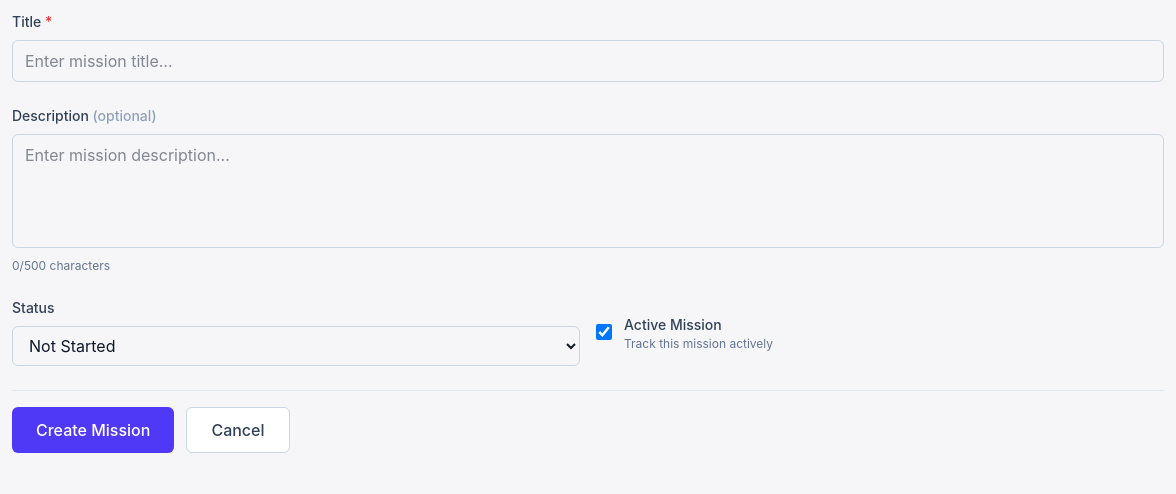
MissionForm › validates required title field
Step 1. Click the button "Create Mission" → (93, 430), box [12, 407, 174, 453]
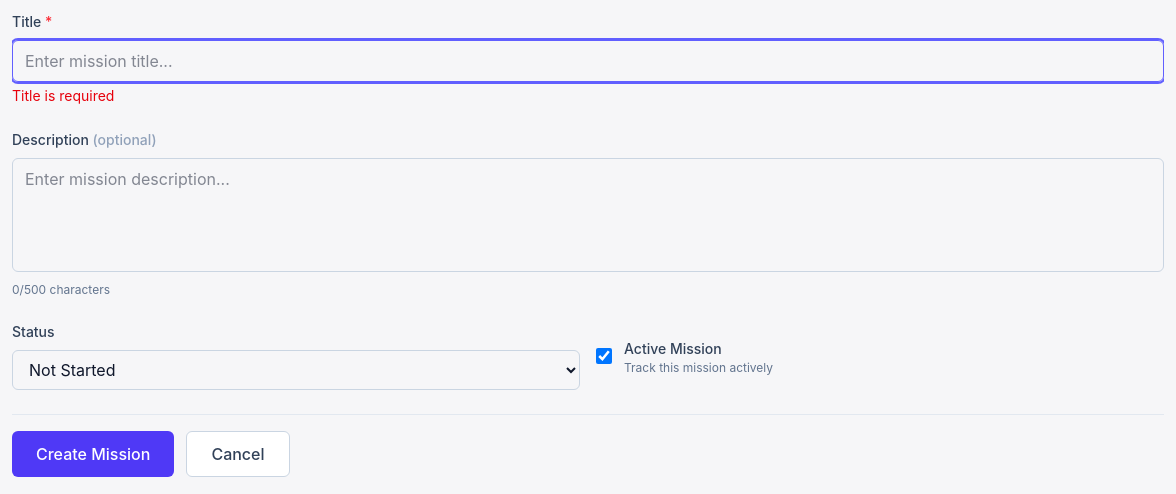
Now the text "Title is required" is shown, box [12, 87, 114, 104]
